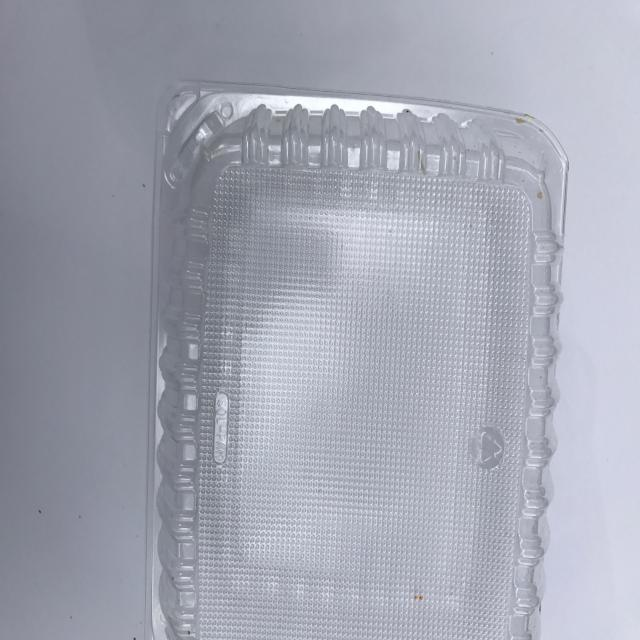Plastic: (104, 61, 580, 640)
